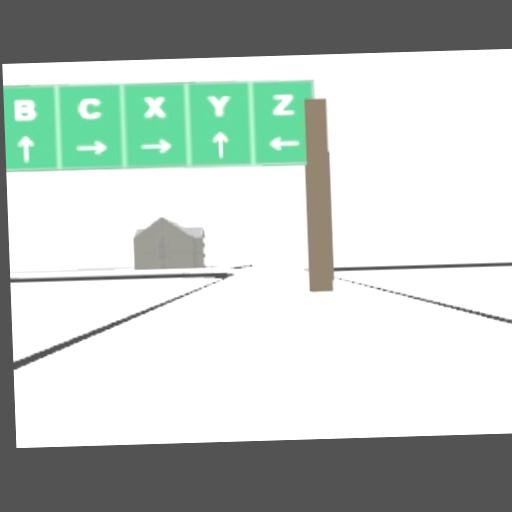B: (12, 99, 36, 120)
C: (76, 97, 100, 118)
Left: (268, 135, 301, 150)
Right: (140, 137, 173, 154), (74, 139, 107, 154)
Straight: (213, 129, 230, 160), (16, 134, 35, 161)
X: (142, 95, 166, 116)
Y: (206, 93, 230, 116)
Z: (270, 93, 294, 115)
